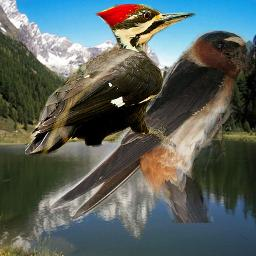Swallow: (47, 30, 255, 223)
Woodpecker: (25, 4, 199, 156)
